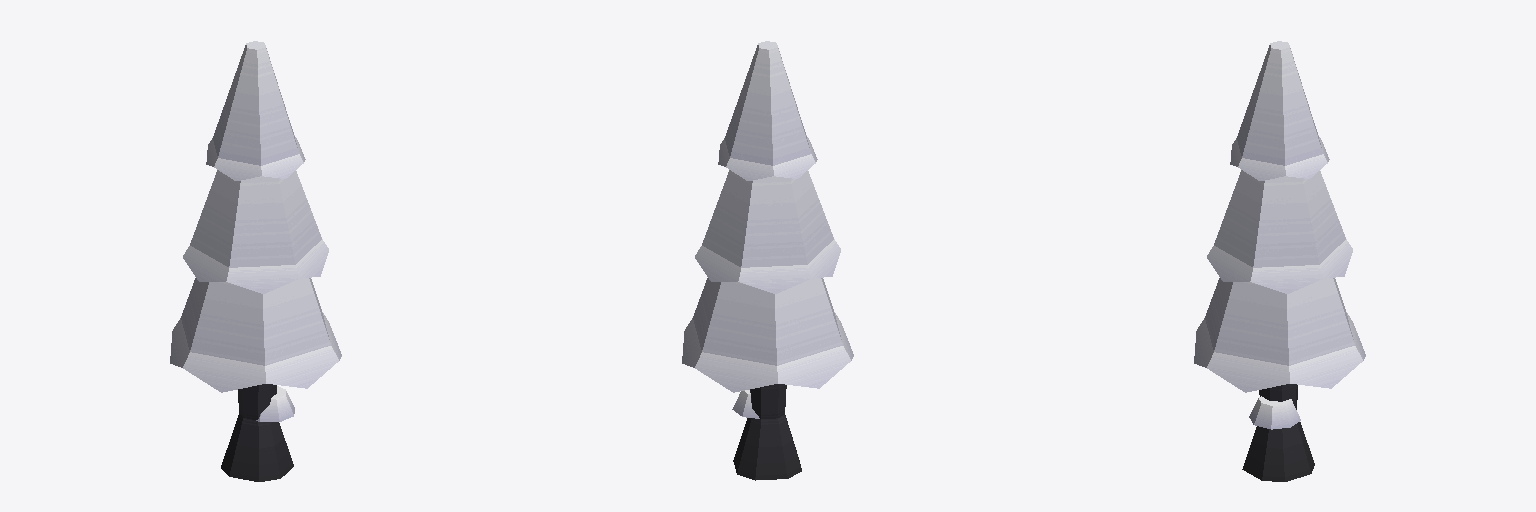
3 renders of one model, left to right at view 1: azimuth 30°, elevation 25°; view 2: azimuth 150°, elevation 25°; view 3: azimuth 270°, elevation 25°, orthographic.
Visible parts, largest first — view 1: tree.063; view 2: tree.063; view 3: tree.063.
Boxes of the visible parts, <box> form: tree.063: <box>170,41,341,481</box>; tree.063: <box>682,41,853,480</box>; tree.063: <box>1194,41,1365,481</box>.
Bounding box in the file's own units: 1.35 × 3.47 × 1.29.
1 materials, 1 textured.